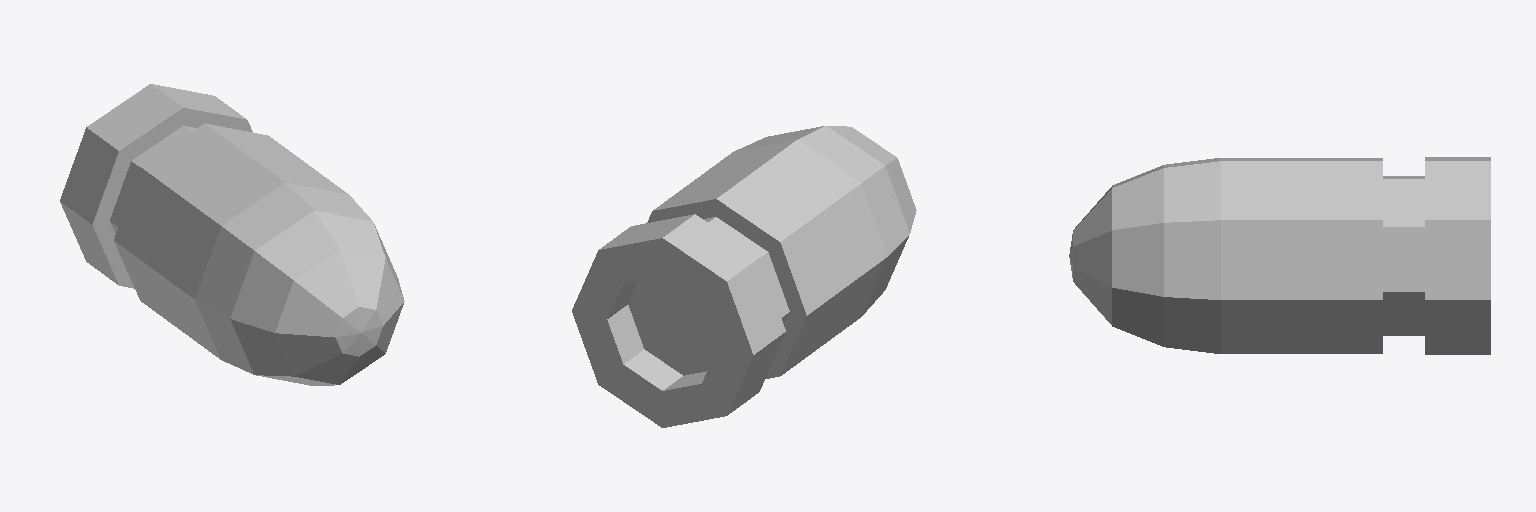
The model's file is CannonShell.obj.
The picture shows the model from 3 angles: view 1: azimuth 30°, elevation 25°; view 2: azimuth 150°, elevation 25°; view 3: azimuth 270°, elevation 25°; orthographic projection.
Parts seen in each view (by area): view 1: headusOBJexport; view 2: headusOBJexport; view 3: headusOBJexport.
Part boxes in pixels (x1,y1,x2,y2): headusOBJexport: (60,84,404,385); headusOBJexport: (572,126,916,427); headusOBJexport: (1069,157,1490,354).
Bounding box in the file's own units: 1.74 × 1.74 × 3.5.